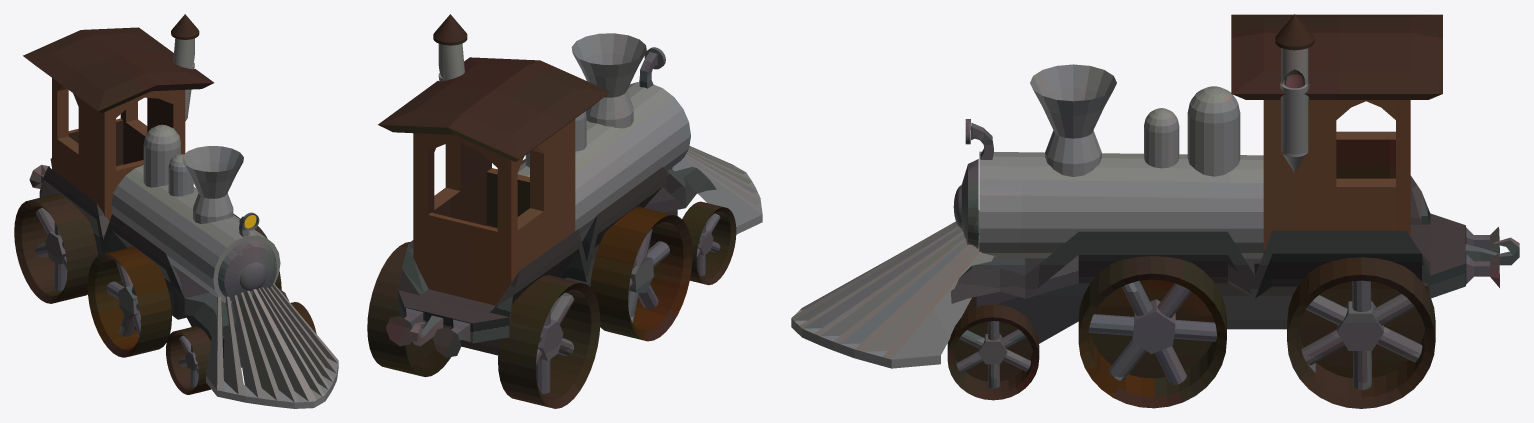
File: trem.glb
3 views of the same model, side by side, from view 1: azimuth 30°, elevation 25°; view 2: azimuth 150°, elevation 25°; view 3: azimuth 270°, elevation 25° (orthographic). The views are drawn at different scales.
Parts seen in each view (by area): view 1: cabine, tira neve, cilindro corpo, rodas meio, rodas traseira, base, vapor, rodas frente, tampa, cilindro 2, cilindro 1, farol; view 2: cabine, rodas traseira, base, rodas meio, cilindro corpo, vapor, rodas frente, tira neve, farol, cilindro 1; view 3: cabine, base, cilindro corpo, rodas meio, rodas traseira, tira neve, rodas frente, vapor, cilindro 2, cilindro 1, tampa, farol.
Part boxes in pixels (left/top/right/bottom): cabine: left=23, top=14, right=214, bottom=220; tira neve: left=206, top=283, right=338, bottom=408; cilindro corpo: left=111, top=165, right=280, bottom=303; rodas meio: left=87, top=226, right=281, bottom=357; rodas traseira: left=14, top=193, right=97, bottom=303; base: left=29, top=158, right=291, bottom=367; vapor: left=182, top=146, right=243, bottom=223; rodas frente: left=166, top=302, right=316, bottom=394; tampa: left=218, top=240, right=276, bottom=302; cilindro 2: left=143, top=124, right=180, bottom=187; cilindro 1: left=168, top=154, right=193, bottom=196; farol: left=239, top=212, right=259, bottom=237; cabine: left=378, top=14, right=610, bottom=305; rodas traseira: left=367, top=242, right=600, bottom=408; base: left=386, top=159, right=716, bottom=357; rodas meio: left=590, top=206, right=692, bottom=341; cilindro corpo: left=517, top=82, right=690, bottom=234; vapor: left=571, top=33, right=646, bottom=128; rodas frente: left=682, top=201, right=736, bottom=285; tira neve: left=671, top=146, right=762, bottom=234; farol: left=639, top=47, right=665, bottom=88; cilindro 1: left=575, top=111, right=586, bottom=151; cabine: left=1231, top=14, right=1442, bottom=252; base: left=951, top=175, right=1519, bottom=343; cilindro corpo: left=979, top=151, right=1263, bottom=258; rodas meio: left=1078, top=256, right=1226, bottom=408; rodas traseira: left=1287, top=257, right=1435, bottom=408; tira neve: left=791, top=210, right=996, bottom=368; rodas frente: left=947, top=296, right=1039, bottom=400; vapor: left=1030, top=64, right=1116, bottom=176; cilindro 2: left=1187, top=86, right=1240, bottom=176; cilindro 1: left=1144, top=108, right=1179, bottom=168; tampa: left=953, top=159, right=978, bottom=248; farol: left=965, top=119, right=993, bottom=159.
Bounding box in the file's own units: 11.96 × 22.17 × 38.23.
1 material, 1 textured.
